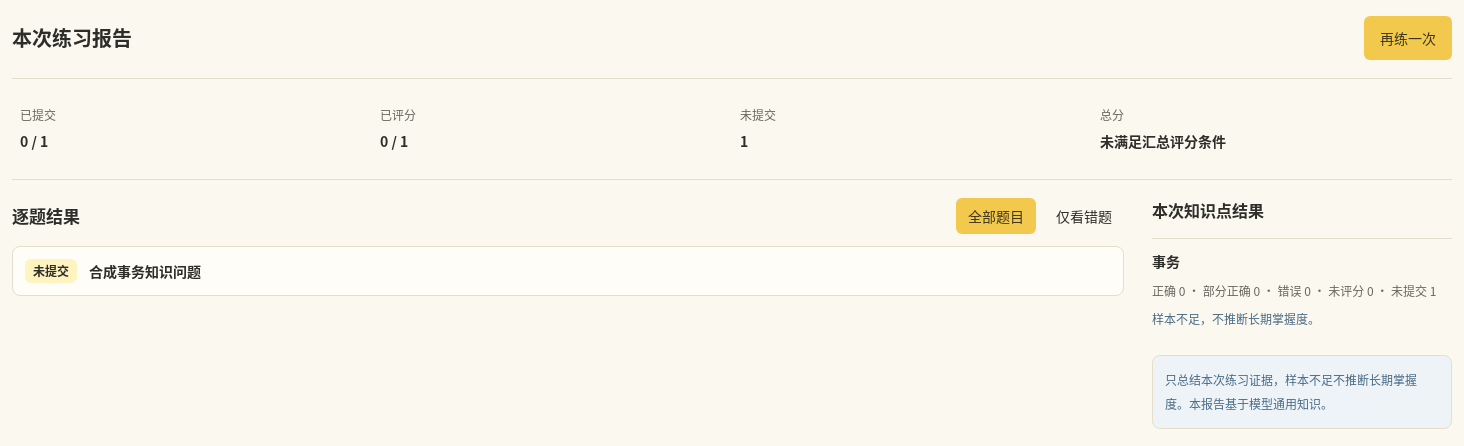
Test: 未提交覆盖清楚列出，不显示总分或把未评分当零分
Expected: the text "未满足汇总评分条件" is shown, [1100,131,1226,151]
Click the button "合成事务知识问题" at coordinates (145, 271), box [89,259,1111,283]
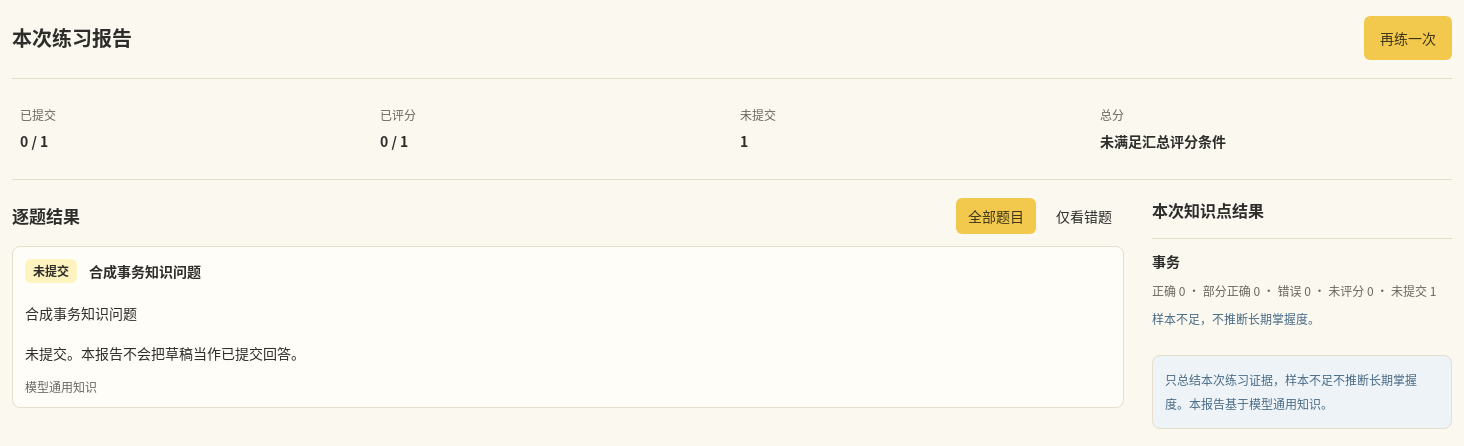
Expected: the text "样本不足，不推断长期掌握度。" is shown, [1152,310,1320,327]
Result: the text "未提交。本报告不会把草稿当作已提交回答。" is shown at [25,343,305,363]
